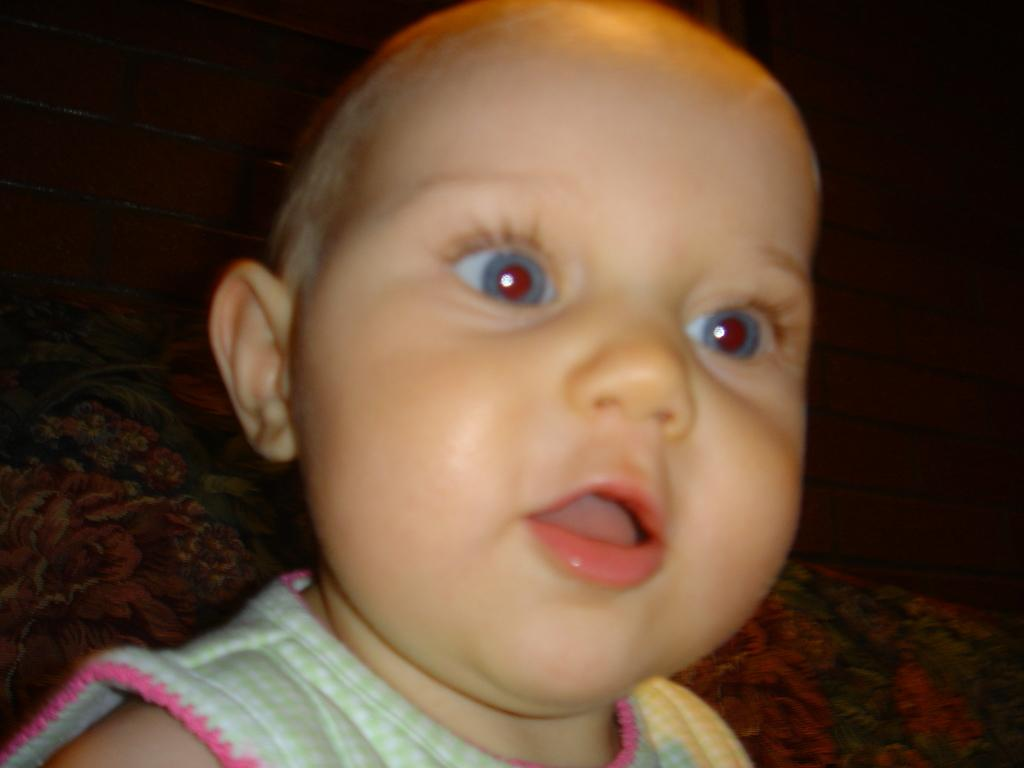Sem Máscara: (284, 0, 815, 717)
